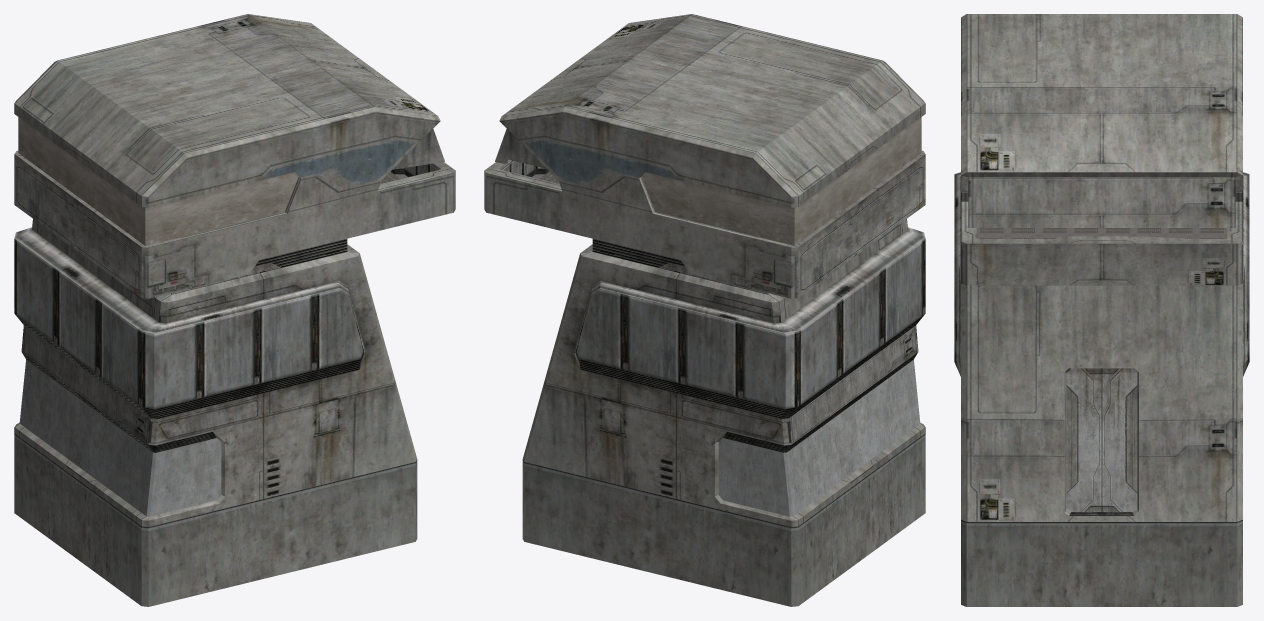
The model's file is mun_all_military_base_lookout_s01_l0.fbx.
3 views of the same model, side by side, from view 1: azimuth 30°, elevation 25°; view 2: azimuth 150°, elevation 25°; view 3: azimuth 270°, elevation 25° (orthographic). The views are drawn at different scales.
Visible parts, largest first — view 1: mesh_node; view 2: mesh_node; view 3: mesh_node.
Boxes of the visible parts, x1,y1,x2,y2 form: mesh_node: (14, 14, 455, 606); mesh_node: (484, 14, 925, 606); mesh_node: (954, 14, 1249, 606).
Bounding box in the file's own units: 8.23 × 11.08 × 6.29.
